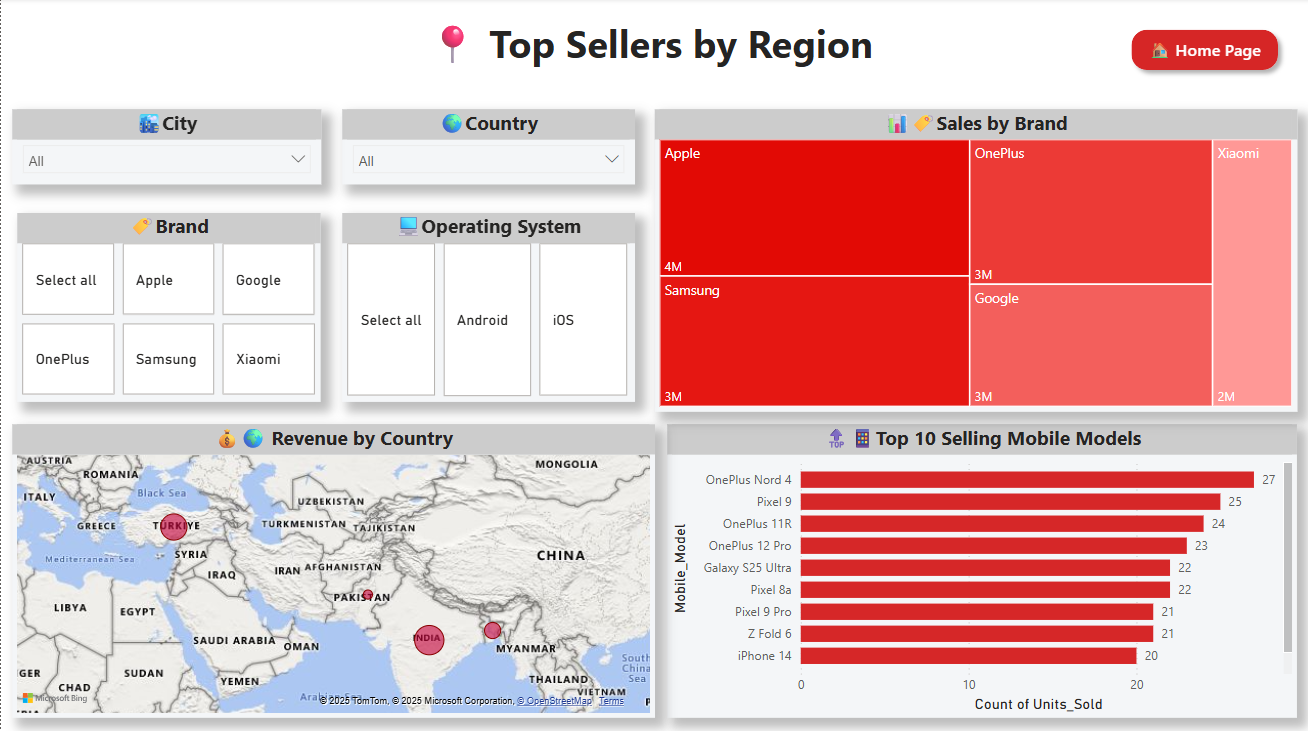

What the dashboard file says about the page in this screenshot:
{"tool":"powerbi","page":{"name":"📍 Top Sellers by Region","canvas":[1280,720],"ordinal":1},"visuals":[{"type":"textbox","box":[11,13.5,1247.3,73.4],"z":0},{"type":"clusteredBarChart","title":"🔝📱Top 10 Selling Mobile Models","fields":{"Y":["CountNonNull(Fact_Sales.Units_Sold)"],"Category":["Fact_Sales.Mobile_Model"]},"box":[651.8,417,616.3,287.4],"z":1000},{"type":"treemap","title":"📊🏷️Sales by Brand","fields":{"Values":["Sum(Fact_Sales.Total_Revenue)"],"Group":["Fact_Sales.Brand"]},"box":[639.5,108.8,628.5,295.9],"z":2000},{"type":"map","title":"💰🌍 Revenue by Country ","fields":{"Category":["Dim_Locations.Country"],"Size":["Sum(Fact_Sales.Total_Revenue)"]},"box":[11,417,628.5,287.4],"z":3000},{"type":"slicer","title":"🌍Country","fields":{"Values":["Fact_Sales.Country"]},"box":[333.8,108.8,286.1,73.4],"z":4000},{"type":"advancedSlicerVisual","title":"🏷️Brand","fields":{"Values":["Fact_Sales.Brand"]},"box":[15.9,210.3,297.1,184.6],"z":5000},{"type":"slicer","title":"🏙️City","fields":{"Values":["Fact_Sales.City"]},"box":[11,108.8,302,73.4],"z":6000},{"type":"advancedSlicerVisual","title":"💻Operating System","fields":{"Values":["Fact_Sales.Operating_System"]},"box":[333.8,210.3,286.1,184.6],"z":7000},{"type":"shape","box":[1096.9,22,161.4,57.5],"z":8000}]}

Visuals, with their boxes in screenshot pixels (x1, y1, x2, y2), scaled from the page's 1280x720 canvas onto the 1308x731 screenshot:
textbox: (11, 14, 1286, 88)
"🔝📱Top 10 Selling Mobile Models" clusteredBarChart: (666, 423, 1296, 715)
"📊🏷️Sales by Brand" treemap: (653, 110, 1296, 411)
"💰🌍 Revenue by Country " map: (11, 423, 653, 715)
"🌍Country" slicer: (341, 110, 633, 185)
"🏷️Brand" advancedSlicerVisual: (16, 214, 320, 401)
"🏙️City" slicer: (11, 110, 320, 185)
"💻Operating System" advancedSlicerVisual: (341, 214, 633, 401)
shape: (1121, 22, 1286, 81)
